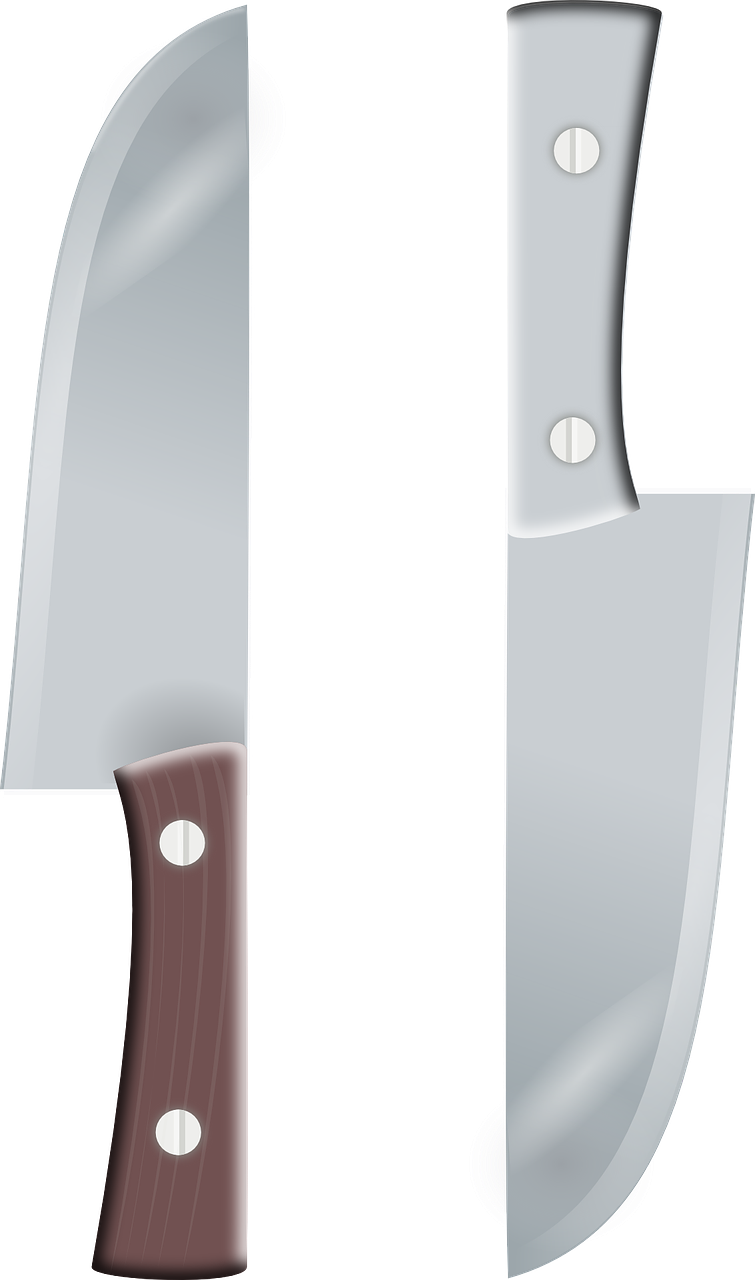knife: (11, 6, 271, 1278), (496, 9, 755, 1280)
